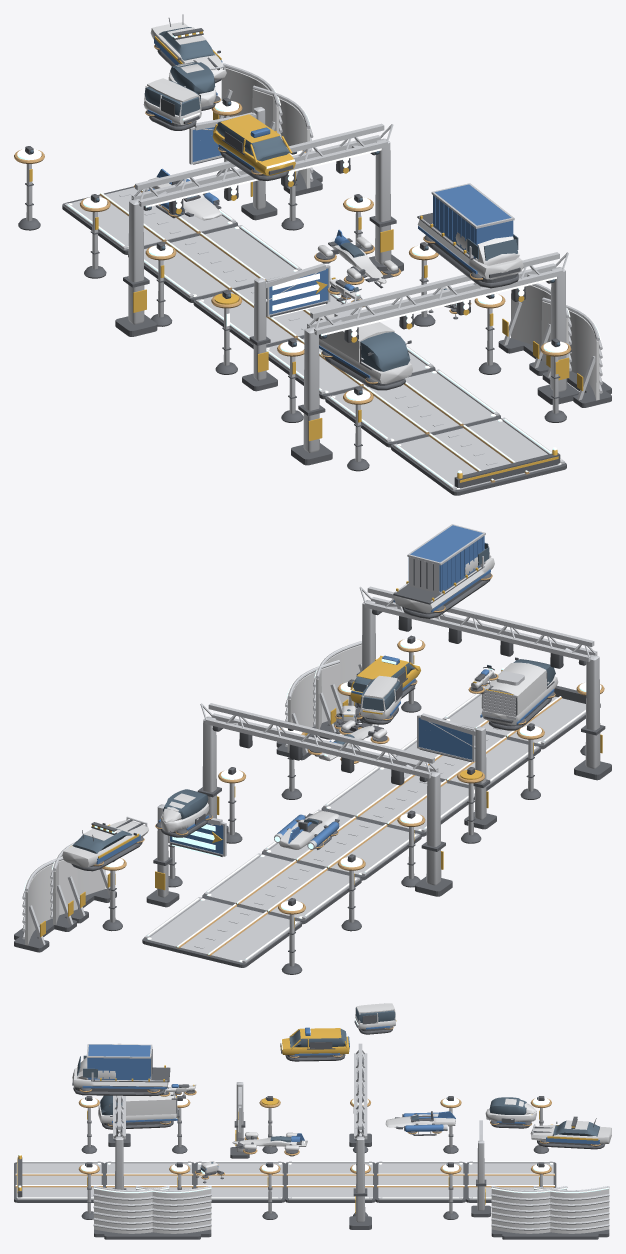
File: hover-transit-and-antigrav-fleet-skylane-section-ca62c2ca__17130.glb
3 renders of one model, top to bottom at view 1: azimuth 30°, elevation 25°; view 2: azimuth 150°, elevation 25°; view 3: azimuth 270°, elevation 25°, orthographic. The views are drawn at different scales.
Visible parts, largest first — view 1: 019-air-traffic-gantry/1, 018-air-traffic-gantry/1, 001-repulsor-road-plate/1, 004-repulsor-road-plate/1, 005-repulsor-road-plate-end/1, 031-cargo-skiff-container/6, 000-repulsor-road-plate/1, 005-repulsor-road-plate-end/0, 002-repulsor-road-plate/1, 025-wind-baffle/0, 035-delivery-van/0, 020-direction-gantry-sign/1 (+38 smaller); view 2: 018-air-traffic-gantry/1, 019-air-traffic-gantry/1, 000-repulsor-road-plate/1, 001-repulsor-road-plate/1, 003-repulsor-road-plate/1, 002-repulsor-road-plate/1, 031-cargo-skiff-container/6, 005-repulsor-road-plate-end/1, 004-repulsor-road-plate/1, 022-wind-baffle/0, 035-delivery-van/0, 024-wind-baffle/0 (+28 smaller); view 3: 001-repulsor-road-plate/1, 002-repulsor-road-plate/1, 005-repulsor-road-plate-end/1, 003-repulsor-road-plate/1, 031-cargo-skiff-container/6, 018-air-traffic-gantry/1, 000-repulsor-road-plate/1, 024-wind-baffle/0, 023-wind-baffle/0, 022-wind-baffle/0, 025-wind-baffle/0, 004-repulsor-road-plate/1 (+39 smaller).
Boxes of the visible parts, x1,y1,x2,y2 form: 019-air-traffic-gantry/1: [303, 252, 568, 452]; 018-air-traffic-gantry/1: [128, 123, 393, 324]; 001-repulsor-road-plate/1: [144, 225, 301, 297]; 004-repulsor-road-plate/1: [327, 369, 499, 442]; 005-repulsor-road-plate-end/1: [393, 417, 564, 490]; 031-cargo-skiff-container/6: [418, 184, 513, 274]; 000-repulsor-road-plate/1: [64, 187, 235, 249]; 005-repulsor-road-plate-end/0: [391, 418, 566, 495]; 002-repulsor-road-plate/1: [195, 286, 347, 344]; 025-wind-baffle/0: [541, 301, 599, 400]; 035-delivery-van/0: [315, 314, 412, 383]; 020-direction-gantry-sign/1: [253, 263, 330, 380]; 018-air-traffic-gantry/1: [200, 703, 441, 885]; 019-air-traffic-gantry/1: [359, 586, 600, 768]; 000-repulsor-road-plate/1: [144, 897, 300, 963]; 001-repulsor-road-plate/1: [204, 853, 359, 919]; 003-repulsor-road-plate/1: [323, 766, 474, 832]; 002-repulsor-road-plate/1: [263, 809, 419, 875]; 031-cargo-skiff-container/6: [393, 525, 490, 612]; 005-repulsor-road-plate-end/1: [442, 693, 585, 744]; 004-repulsor-road-plate/1: [391, 734, 539, 786]; 022-wind-baffle/0: [25, 860, 77, 945]; 035-delivery-van/0: [481, 662, 558, 724]; 024-wind-baffle/0: [287, 663, 340, 752]; 001-repulsor-road-plate/1: [378, 1161, 463, 1199]; 002-repulsor-road-plate/1: [288, 1161, 372, 1199]; 005-repulsor-road-plate-end/1: [16, 1161, 101, 1199]; 003-repulsor-road-plate/1: [197, 1161, 282, 1199]; 031-cargo-skiff-container/6: [82, 1044, 167, 1089]; 018-air-traffic-gantry/1: [354, 1043, 367, 1222]; 000-repulsor-road-plate/1: [468, 1161, 553, 1199]; 024-wind-baffle/0: [136, 1188, 211, 1233]; 023-wind-baffle/0: [491, 1188, 566, 1233]; 022-wind-baffle/0: [534, 1188, 609, 1233]; 025-wind-baffle/0: [94, 1188, 169, 1233]; 004-repulsor-road-plate/1: [107, 1161, 191, 1190].
Size of the model in its own units: 16.05 by 11.04 by 39.69.
